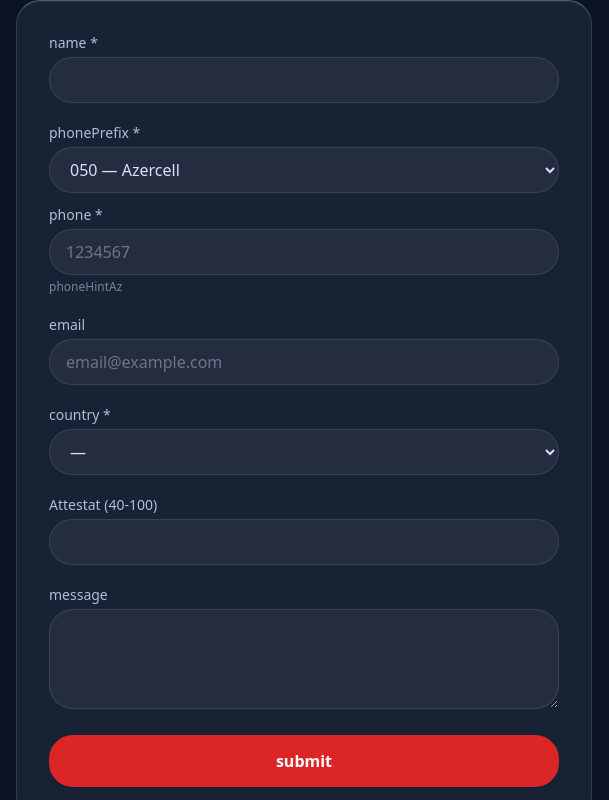
Test: ApplicationForm › shows validation error when submitted empty
Click the button "submit": (304, 761) [49,735,559,787]
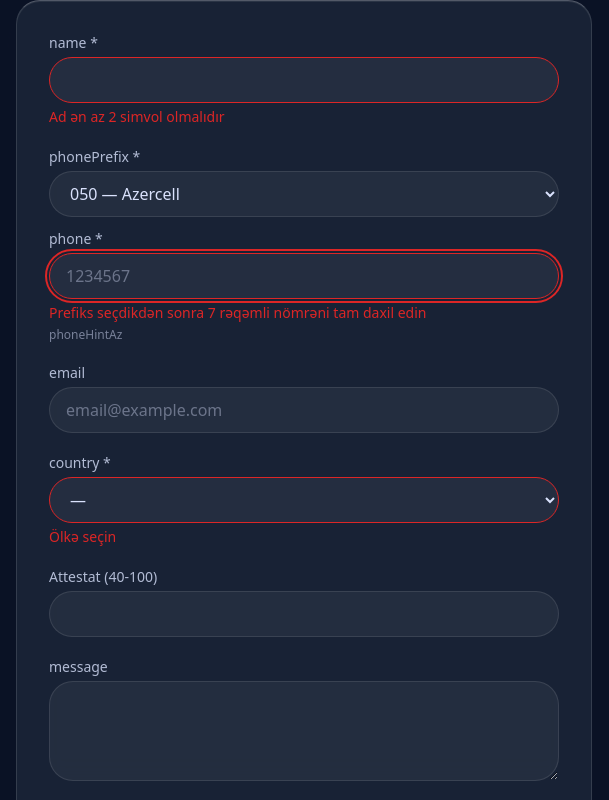
Result: the text "Ad ən az 2 simvol olmalıdır" is shown at [49,107,225,126]
